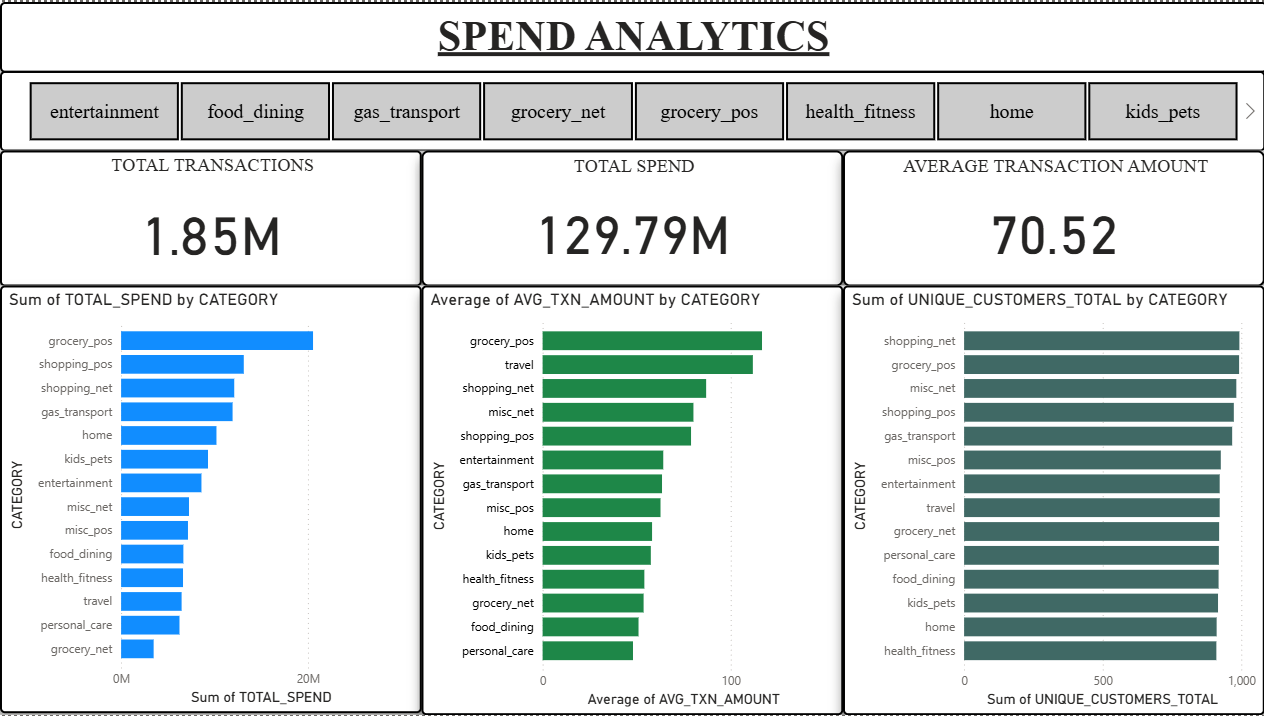

What the dashboard file says about the page in this screenshot:
{"tool":"powerbi","page":{"name":"Spend Analytics","canvas":[1280,720],"ordinal":1},"visuals":[{"type":"textbox","box":[0,0,1280,71],"z":0},{"type":"card","title":"TOTAL TRANSACTIONS","fields":{"Values":["Sum(MART_SPEND_ANALYTICS.TXN_COUNT)"]},"box":[0,150,426,137],"z":0,"group":"g1"},{"type":"clusteredBarChart","fields":{"Category":["MART_SPEND_ANALYTICS.CATEGORY"],"Y":["Sum(MART_SPEND_ANALYTICS.TOTAL_SPEND)"]},"box":[0,286.3,426,432],"z":0,"group":"g3"},{"type":"slicer","fields":{"Values":["MART_SPEND_ANALYTICS.CATEGORY"]},"box":[0,70,1278,81],"z":1000},{"type":"group","id":"g1","title":"Group 1","box":[0,150,1278,137],"z":1000,"group":"g2"},{"type":"card","title":"TOTAL SPEND","fields":{"Values":["Sum(MART_SPEND_ANALYTICS.TOTAL_SPEND)"]},"box":[426,150,426,137],"z":1000,"group":"g1"},{"type":"clusteredBarChart","fields":{"Category":["MART_SPEND_ANALYTICS.CATEGORY"],"Y":["Avg(MART_SPEND_ANALYTICS.AVG_TXN_AMOUNT)"]},"box":[426,285.7,426,434],"z":1000,"group":"g3"},{"type":"group","id":"g2","title":"Group 3","box":[0,150,1278,570.3],"z":2000},{"type":"card","title":"AVERAGE TRANSACTION AMOUNT","fields":{"Values":["Avg(MART_SPEND_ANALYTICS.AVG_TXN_AMOUNT)"]},"box":[852,150,426,137],"z":2000,"group":"g1"},{"type":"group","id":"g3","title":"Group 2","box":[0,285.7,1278,434.6],"z":2000,"group":"g2"},{"type":"clusteredBarChart","fields":{"Category":["MART_SPEND_ANALYTICS.CATEGORY"],"Y":["Sum(MART_SPEND_ANALYTICS.UNIQUE_CUSTOMERS_TOTAL)"]},"box":[852,286.3,426,434],"z":2000,"group":"g3"}]}

Visuals, with their boxes in screenshot pixels (x1, y1, x2, y2), scaled from the page's 1280x720 canvas onto the 1264x716 screenshot:
textbox: bbox=[0, 0, 1263, 71]
"TOTAL TRANSACTIONS" card: bbox=[0, 149, 421, 285]
clusteredBarChart - MART_SPEND_ANALYTICS.CATEGORY x Sum(MART_SPEND_ANALYTICS.TOTAL_SPEND): bbox=[0, 285, 421, 714]
slicer - MART_SPEND_ANALYTICS.CATEGORY: bbox=[0, 70, 1262, 150]
"Group 1" group: bbox=[0, 149, 1262, 285]
"TOTAL SPEND" card: bbox=[421, 149, 841, 285]
clusteredBarChart - MART_SPEND_ANALYTICS.CATEGORY x Avg(MART_SPEND_ANALYTICS.AVG_TXN_AMOUNT): bbox=[421, 284, 841, 715]
"Group 3" group: bbox=[0, 149, 1262, 715]
"AVERAGE TRANSACTION AMOUNT" card: bbox=[841, 149, 1262, 285]
"Group 2" group: bbox=[0, 284, 1262, 715]
clusteredBarChart - MART_SPEND_ANALYTICS.CATEGORY x Sum(MART_SPEND_ANALYTICS.UNIQUE_CUSTOMERS_TOTAL): bbox=[841, 285, 1262, 715]
